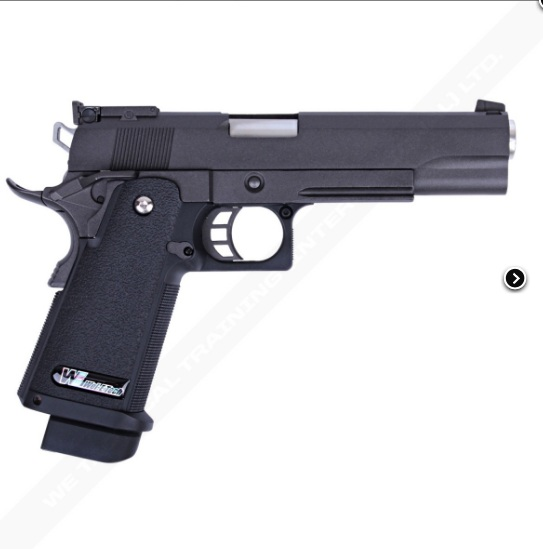gun: (2, 85, 521, 468)
